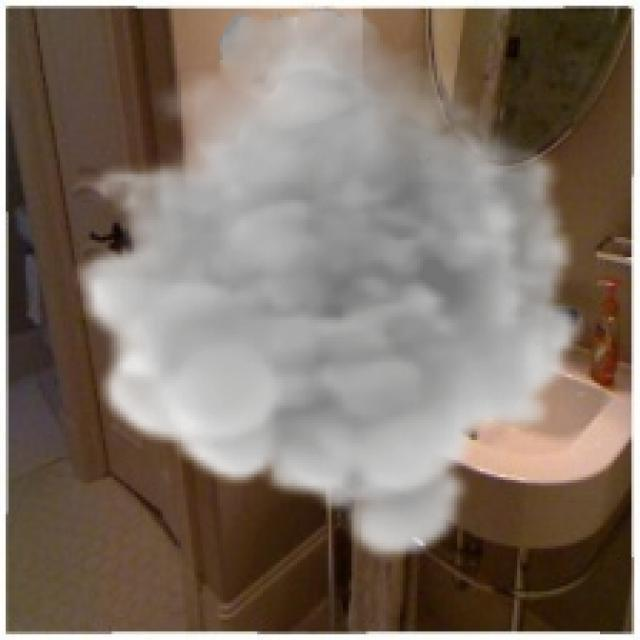Smoke: (71, 3, 586, 566)
